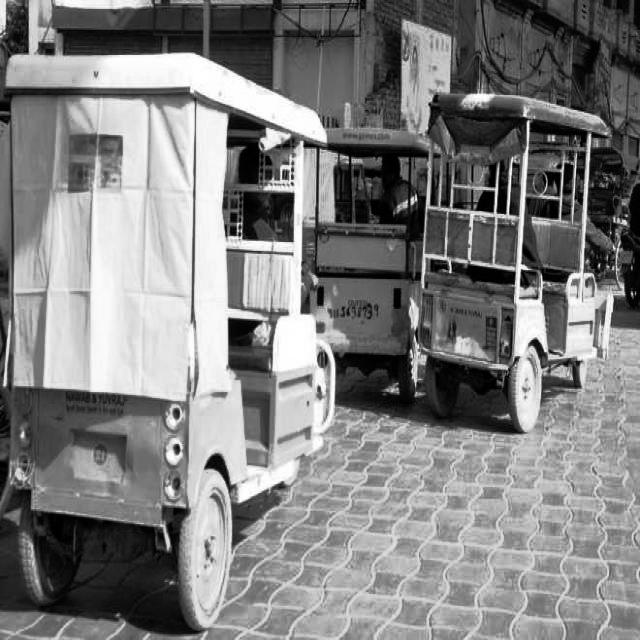Toto: (0, 47, 316, 640), (425, 90, 617, 432), (294, 119, 440, 407)
